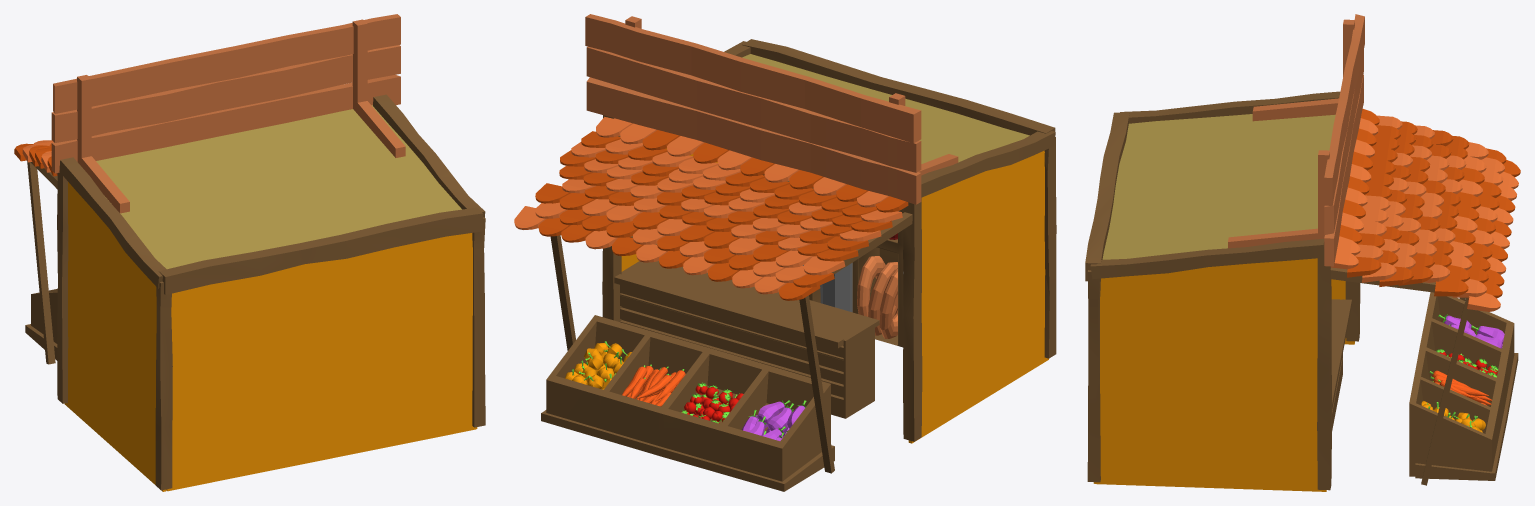
The model's file is stall.glb.
3 renders of one model, left to right at view 1: azimuth 30°, elevation 25°; view 2: azimuth 150°, elevation 25°; view 3: azimuth 270°, elevation 25°, orthographic. The views are drawn at different scales.
Visible parts, largest first — view 1: marketStall.001; view 2: marketStall.001; view 3: marketStall.001.
Boxes of the visible parts, left/top/right/bottom form: marketStall.001: left=14, top=14, right=485, bottom=491; marketStall.001: left=514, top=14, right=1056, bottom=491; marketStall.001: left=1085, top=14, right=1520, bottom=491.
Size of the model in its own units: 4.96 by 4.49 by 5.37.
